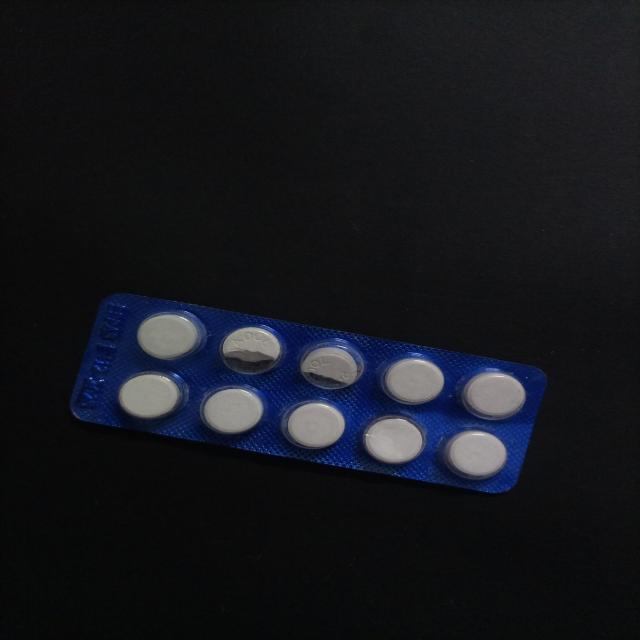defect: (295, 336, 372, 392), (217, 321, 290, 377)
